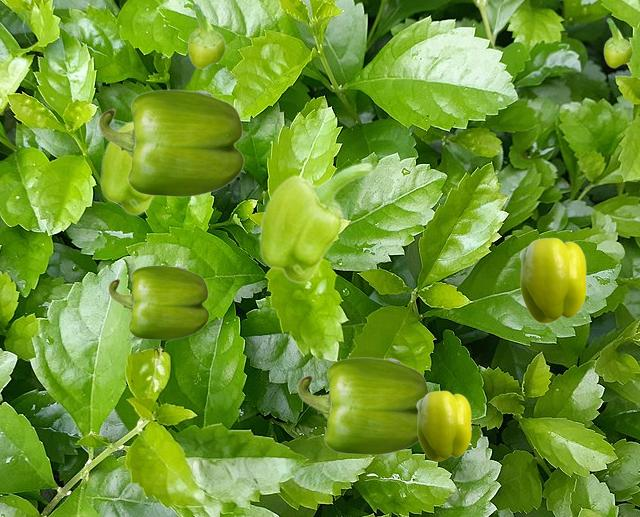bell_pepper: (98, 89, 243, 196), (258, 161, 373, 283), (297, 357, 429, 454), (108, 265, 208, 339), (519, 237, 585, 322), (99, 120, 156, 215), (416, 390, 470, 460), (187, 3, 225, 68), (603, 18, 632, 67)
